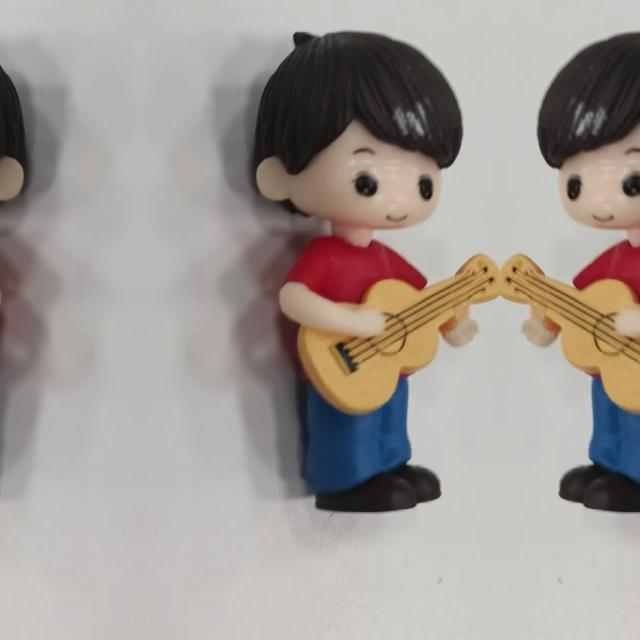man cloth: (275, 238, 435, 366), (565, 238, 640, 366), (0, 238, 5, 366)
man head: (230, 18, 466, 236), (534, 18, 640, 236), (0, 18, 49, 236)
trousers: (293, 369, 447, 515), (553, 369, 640, 515)
